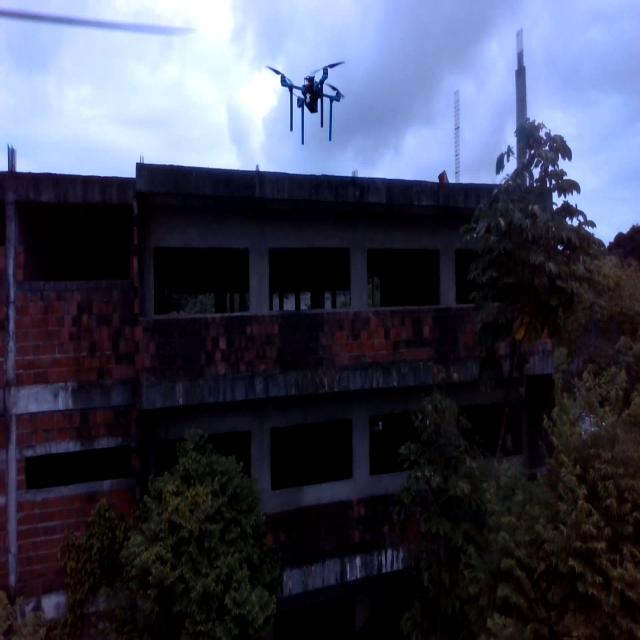-uav-: (266, 48, 362, 156)
